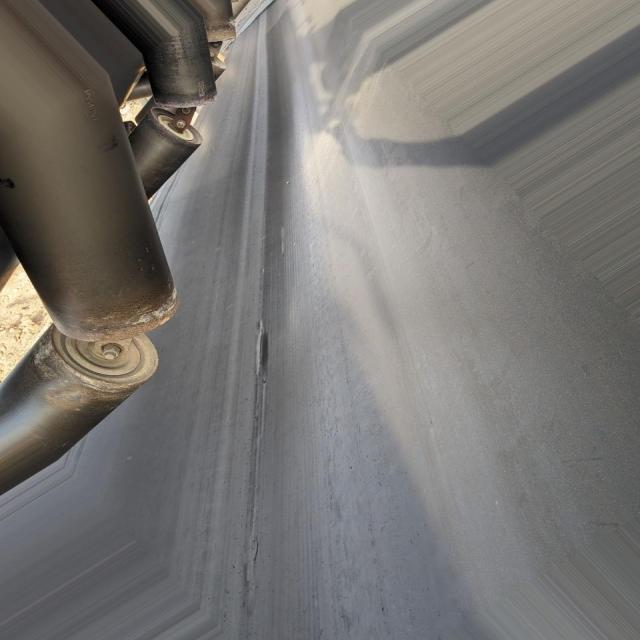Roller: (0, 67, 182, 337), (0, 328, 158, 457), (147, 17, 218, 107), (129, 112, 202, 195)
impact damage: (254, 328, 269, 381)
